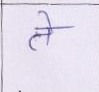e_matra: (38, 10, 57, 26)
